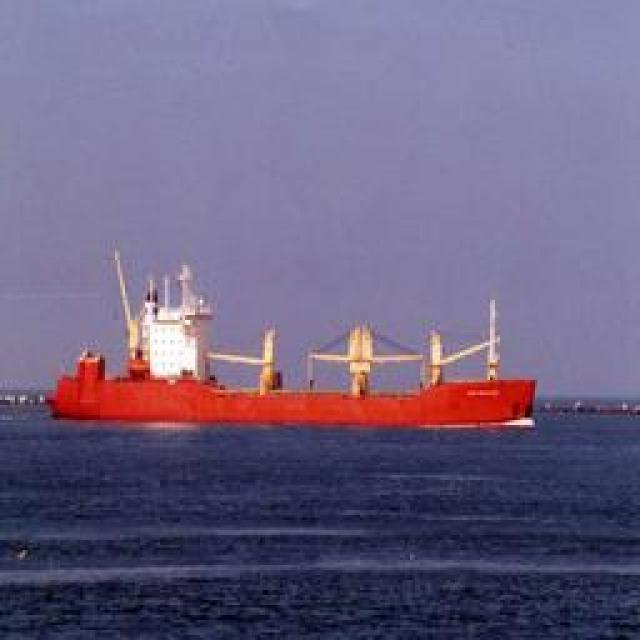CIV_Ship: (28, 258, 542, 458)
